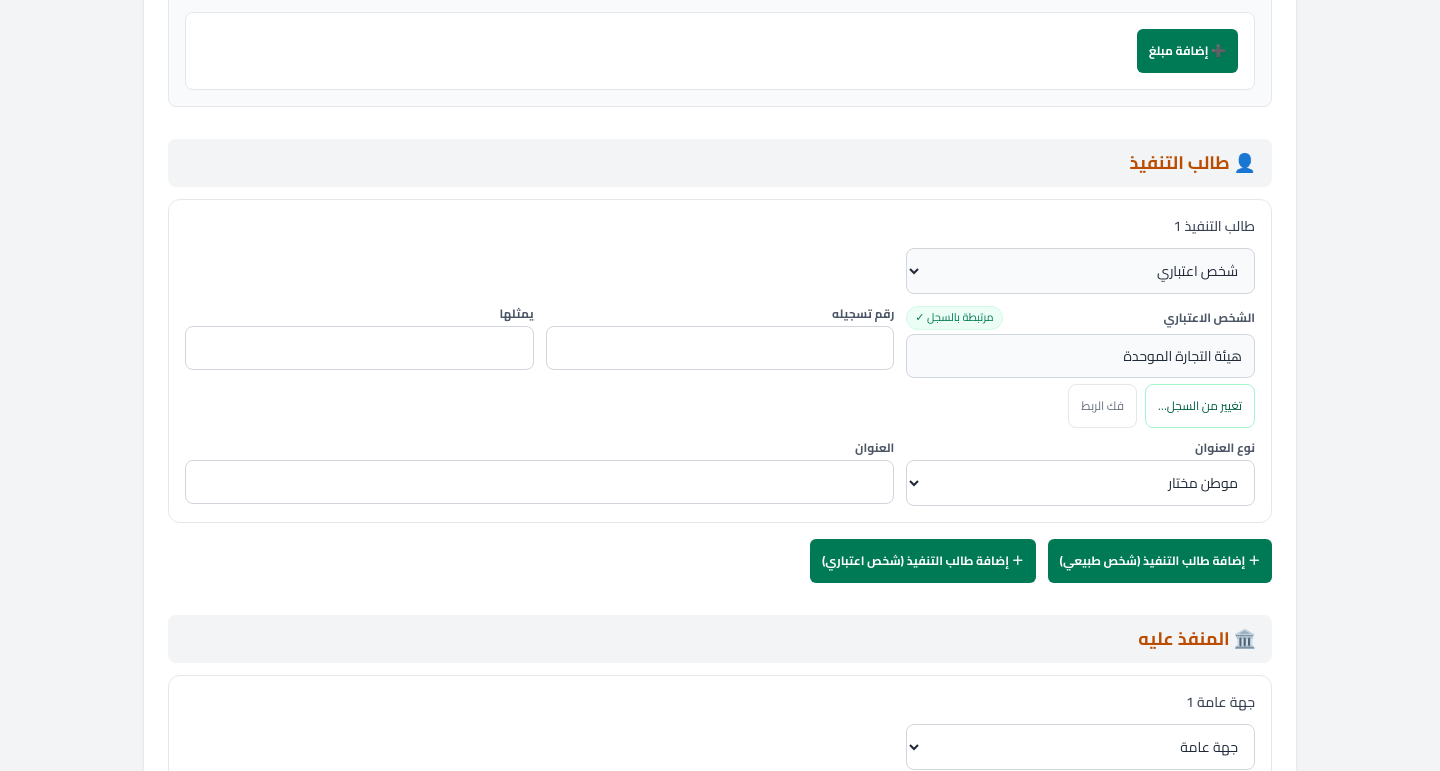
DocumentForm · ربط الأطراف بالسجل › يقفل اسم طالب التنفيذ الاعتباري ويفك ربطه عبر الزر لا بالتحرير اليدوي
The image size is (1440, 771).
(page scrolled)
Expected: the text "مرتبطة بالسجل ✓" is shown, [906, 306, 1002, 330]
Click the button "فك الربط": (1103, 406) [1068, 384, 1137, 428]
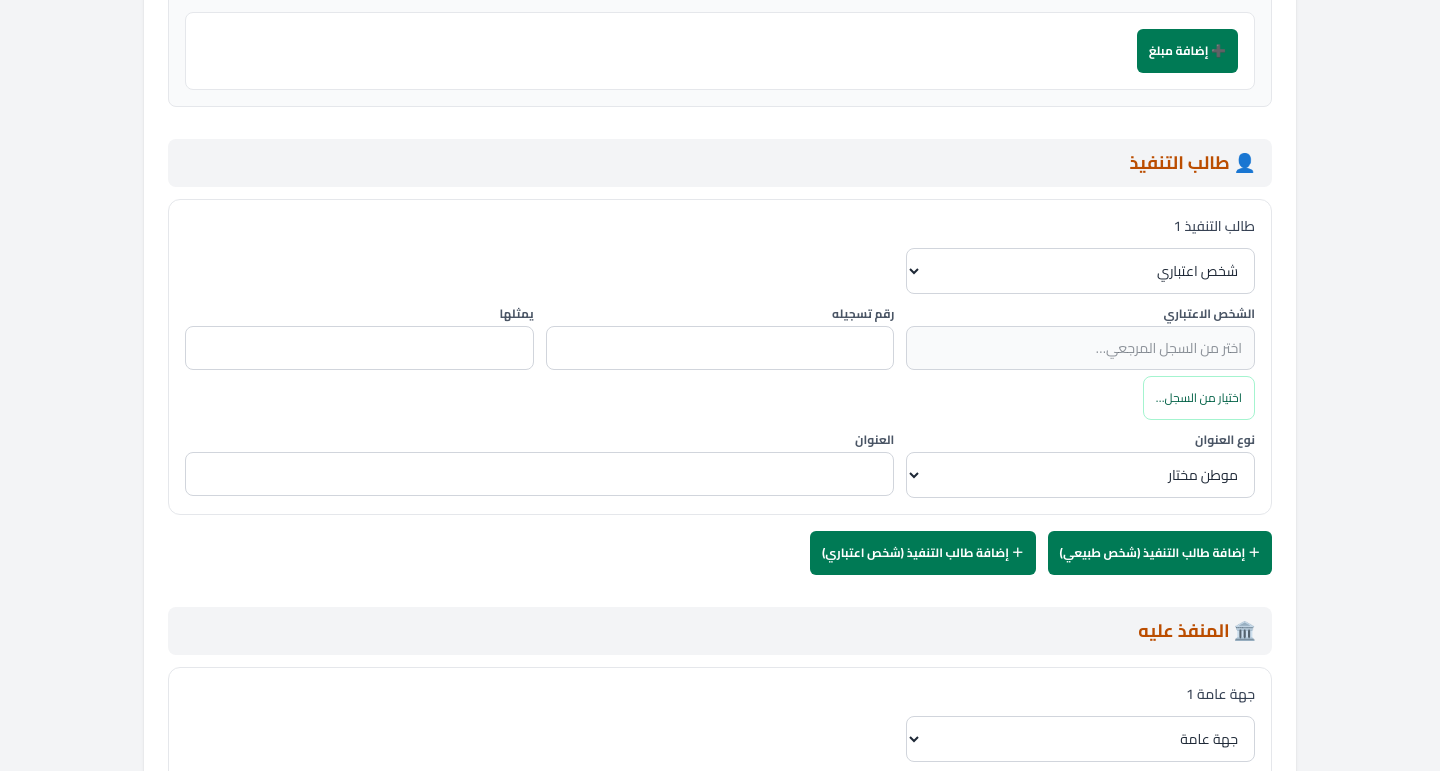
Expected: the text "مرتبطة بالسجل ✓" is gone
Expected: the field named "الشخص الاعتباري" is empty, [906, 326, 1255, 370]
